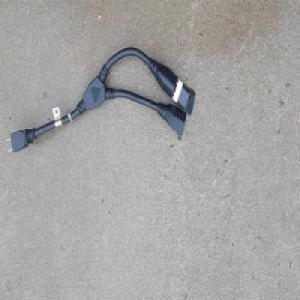Wire: (5, 45, 196, 156)
